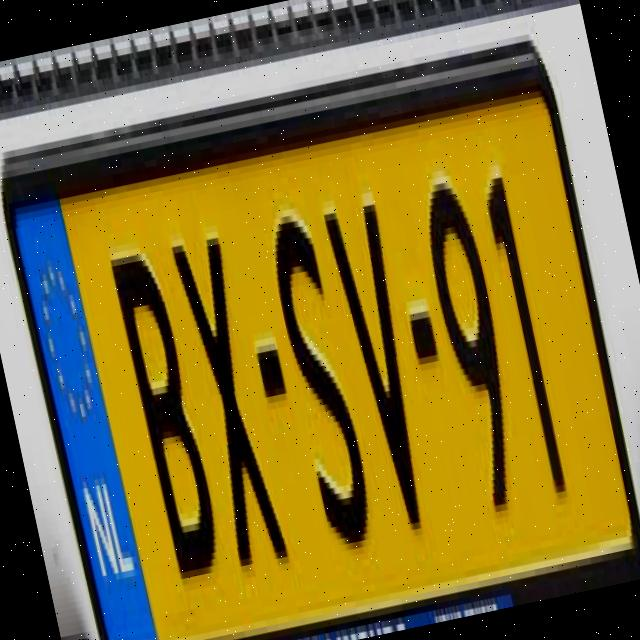EU: (0, 49, 640, 640)
Pays-Bas: (7, 188, 161, 640)
